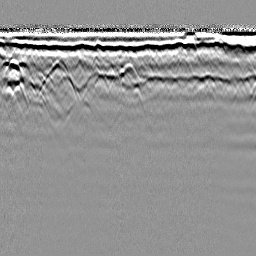cavity: (119, 61, 139, 79)
